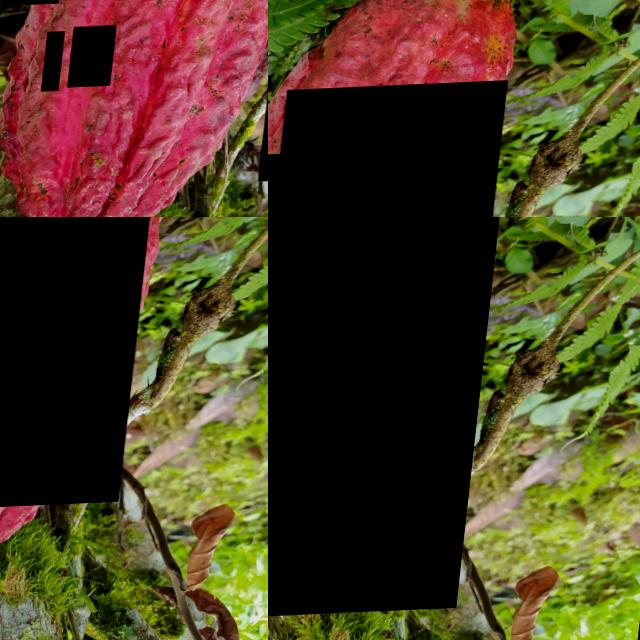Fitoftora: (268, 84, 512, 217)
Sana: (268, 217, 507, 622), (0, 217, 162, 514), (76, 28, 124, 89), (50, 33, 73, 94)
